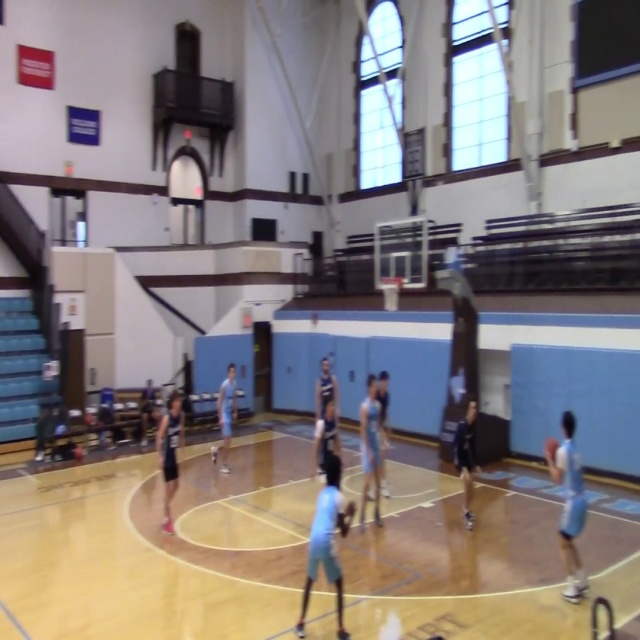Basketball: (544, 438, 559, 464), (72, 447, 86, 461), (345, 501, 356, 516)
